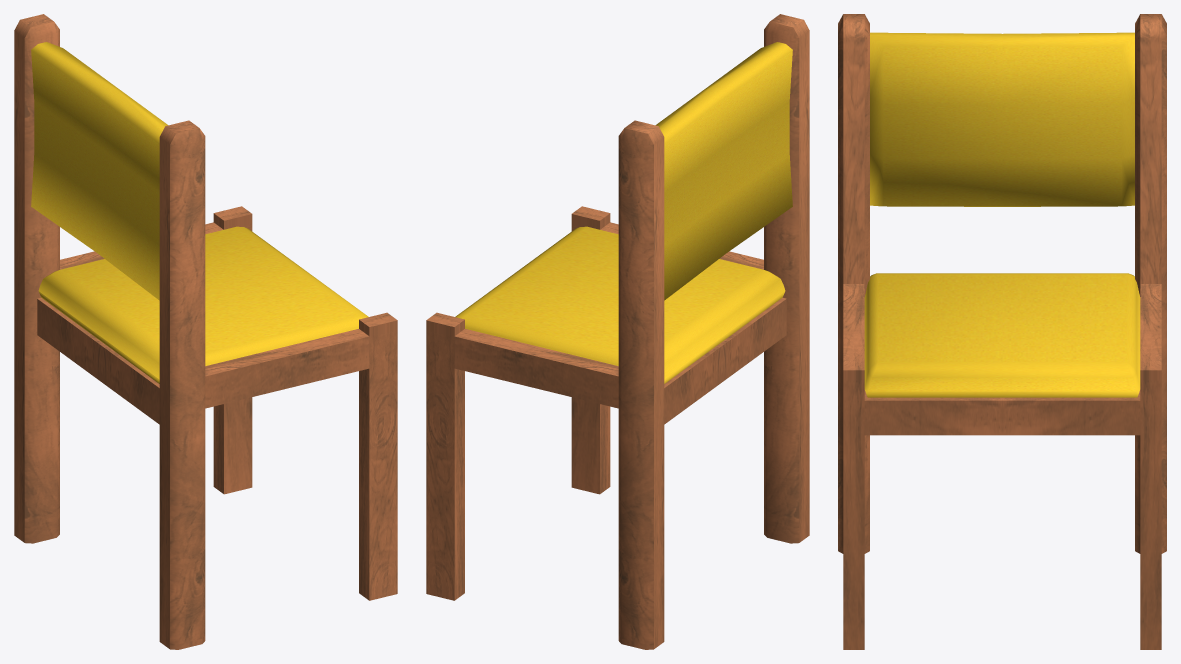
Rendered from Chair Yellow.fbx.
The picture shows the model from 3 angles, left to right: view 1: azimuth 30°, elevation 25°; view 2: azimuth 150°, elevation 25°; view 3: azimuth 270°, elevation 25°; orthographic projection. The views are drawn at different scales.
Parts seen in each view (by area): view 1: Chair Yellow; view 2: Chair Yellow; view 3: Chair Yellow.
Boxes of the visible parts, bbox=[...] form: Chair Yellow: bbox=[14, 14, 397, 649]; Chair Yellow: bbox=[426, 14, 809, 649]; Chair Yellow: bbox=[838, 14, 1166, 649].
Bounding box in the file's own units: 29.08 × 62.78 × 35.62.
